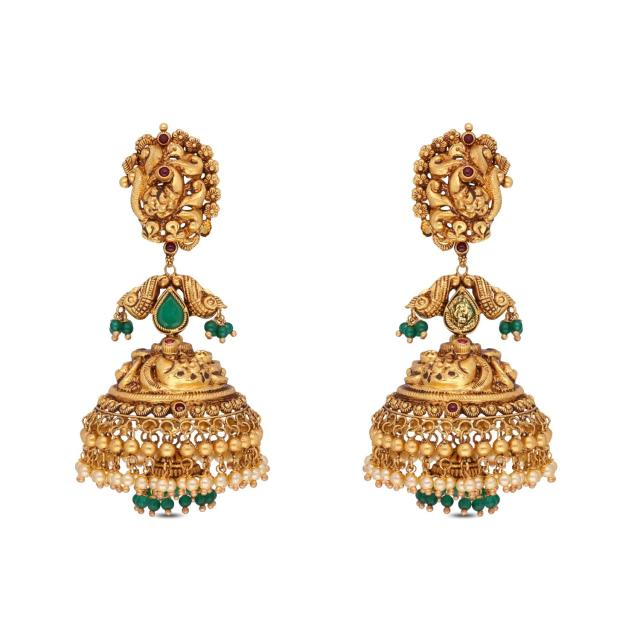missing gem: (450, 293, 475, 328), (175, 402, 185, 413)
